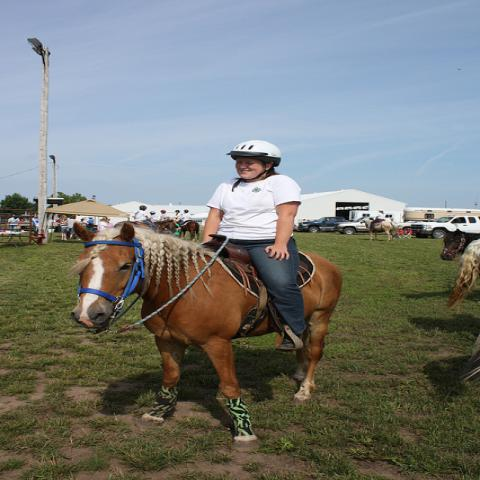car: (411, 215, 479, 239), (334, 217, 419, 235), (292, 216, 351, 234), (104, 215, 126, 232)
